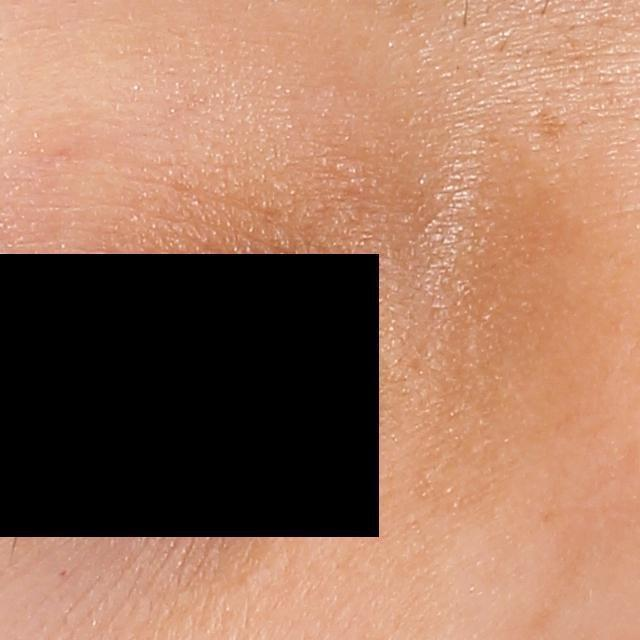melasma: (534, 106, 571, 146)
